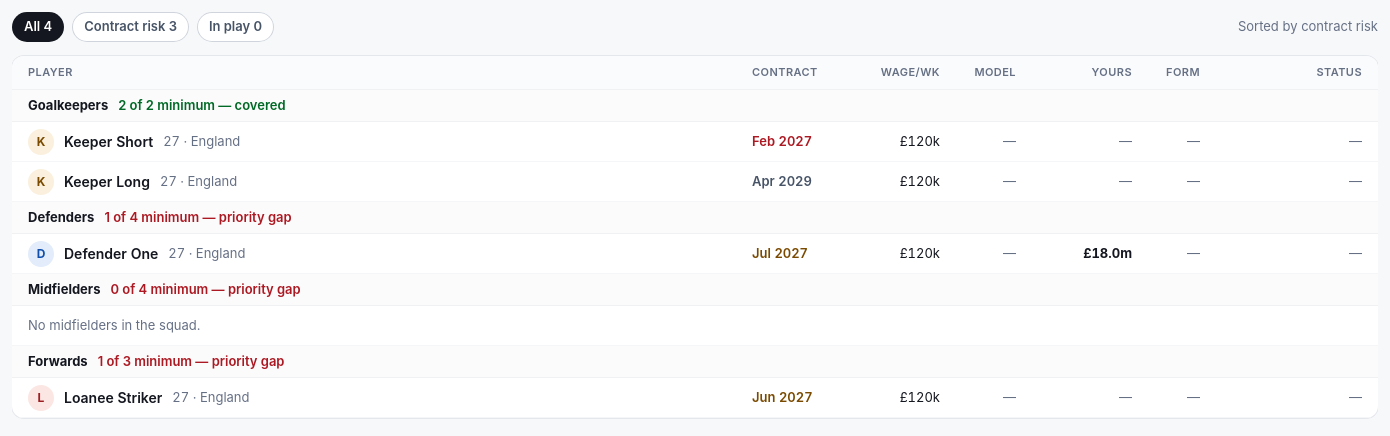
SquadTable › counts chips and group minimums from the whole squad, not the filter
What coordinates should you click on to do the following:
click the button "Contract risk 3"
I would click on:
 (131, 27)
Its box is [72,12,189,42].
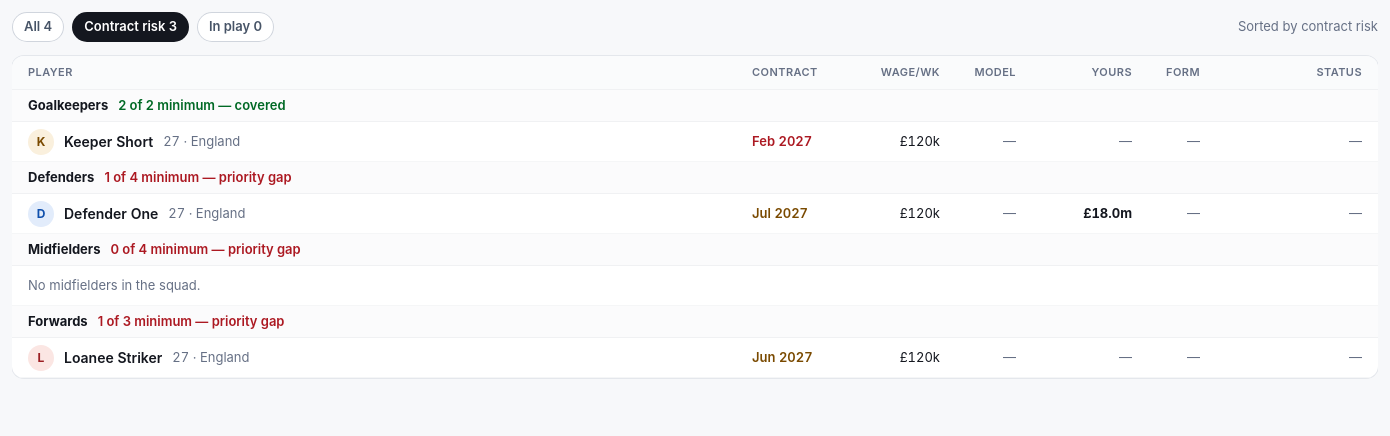
Check: the text "2 of 2 minimum — covered" is shown, box [118,96,286,115]
Check: the link "Keeper Long" is gone
